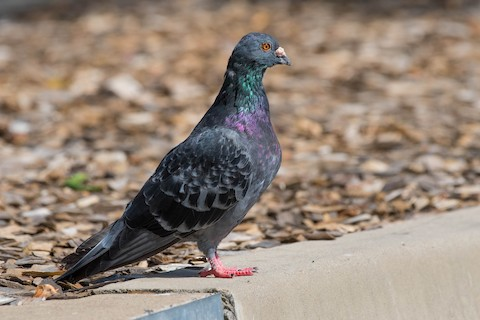pigeon: (44, 26, 297, 300)
